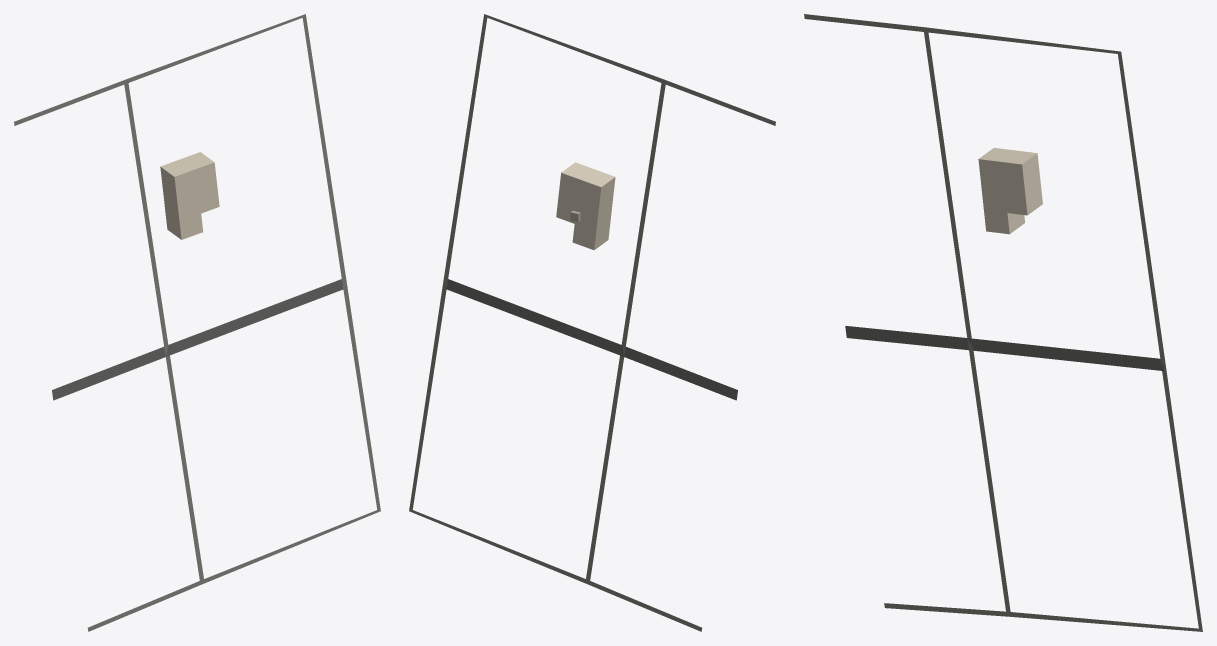
Rendered from historic-palestine-01_17_3431_3115.glb.
3 views of the same model, side by side, from view 1: azimuth 30°, elevation 25°; view 2: azimuth 150°, elevation 25°; view 3: azimuth 330°, elevation 25° (orthographic). The views are drawn at different scales.
Visible parts, largest first — view 1: Road, Building_, Road .002, Road .001; view 2: Road, Building_, Road .002, Road .001; view 3: Road, Building_, Road .002, Road .001.
Part boxes in pixels (x1=…): Road: x1=14, y1=14, x2=380, y2=631; Building_: x1=160, y1=152, x2=219, y2=239; Road .002: x1=52, y1=279, x2=345, y2=400; Road .001: x1=124, y1=81, x2=203, y2=580; Road: x1=409, y1=14, x2=775, y2=631; Building_: x1=556, y1=162, x2=615, y2=250; Road .002: x1=445, y1=279, x2=737, y2=400; Road .001: x1=585, y1=83, x2=665, y2=580; Road: x1=804, y1=14, x2=1202, y2=631; Building_: x1=978, y1=148, x2=1042, y2=234; Road .002: x1=845, y1=326, x2=1164, y2=370; Road .001: x1=924, y1=30, x2=1010, y2=613.
Size of the model in its own units: 112 by 164 by 8.7.
